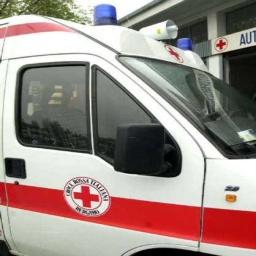Ambulance: (0, 5, 255, 255)
